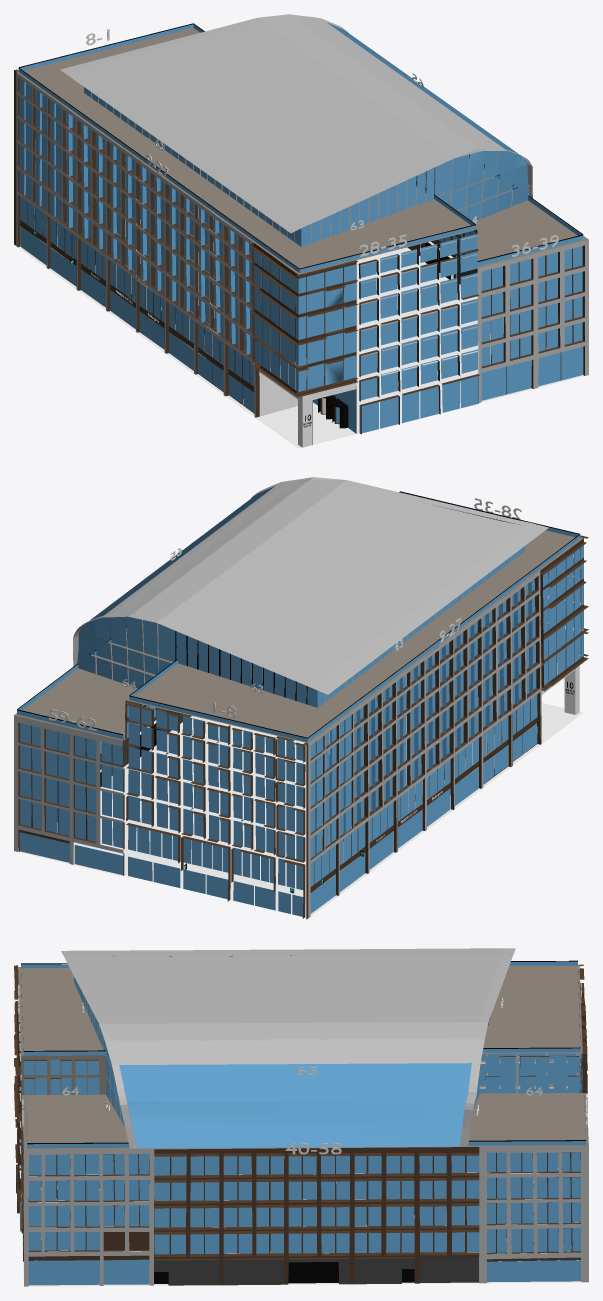
The model's file is 10PortmanSquare.glb.
3 renders of one model, top to bottom at view 1: azimuth 30°, elevation 25°; view 2: azimuth 150°, elevation 25°; view 3: azimuth 270°, elevation 25°, orthographic.
Parts seen in each view (by area): view 1: Buildi, Roof, Drop64, Drop63, Drop29, Drop28, Drop35, Drop34, Drop31, Drop33, Drop30, Drop32 (+24 smaller); view 2: Buildi, Roof, Drop64, Drop63, Drop1, Drop3, Drop2, Drop5, Drop4, Drop6, Drop60, Drop7 (+24 smaller); view 3: Buildi, Roof, Drop65, Drop64, Drop45, Drop47, Drop46, Drop52, Drop49, Drop50, Drop42, Drop41 (+11 smaller).
Boxes of the visible parts, <box> form: Buildi: <box>14,23,588,448</box>; Roof: <box>60,14,532,233</box>; Drop64: <box>341,28,528,255</box>; Drop63: <box>84,87,434,246</box>; Drop29: <box>325,264,356,385</box>; Drop28: <box>298,272,324,391</box>; Drop35: <box>460,234,477,373</box>; Drop34: <box>440,239,457,378</box>; Drop31: <box>380,254,398,394</box>; Drop33: <box>420,244,437,384</box>; Drop30: <box>359,262,377,400</box>; Drop32: <box>401,249,416,389</box>; Buildi: <box>14,491,588,919</box>; Roof: <box>73,477,548,704</box>; Drop64: <box>77,616,175,737</box>; Drop63: <box>176,546,525,707</box>; Drop1: <box>128,705,161,856</box>; Drop3: <box>182,716,212,868</box>; Drop2: <box>156,710,180,860</box>; Drop5: <box>233,729,259,879</box>; Drop4: <box>208,724,230,872</box>; Drop6: <box>255,735,275,883</box>; Drop60: <box>46,729,69,835</box>; Drop7: <box>278,738,294,888</box>; Buildi: <box>14,960,588,1286</box>; Roof: <box>61,948,515,1148</box>; Drop65: <box>119,1063,471,1148</box>; Drop64: <box>24,1045,579,1126</box>; Drop45: <box>154,1156,186,1254</box>; Drop47: <box>223,1156,252,1253</box>; Drop46: <box>190,1155,219,1253</box>; Drop52: <box>386,1156,414,1252</box>; Drop49: <box>288,1156,316,1253</box>; Drop50: <box>321,1156,349,1253</box>; Drop42: <box>73,1154,99,1250</box>; Drop41: <box>44,1154,70,1250</box>.
Size of the model in its own units: 36.84 by 26.06 by 60.32.
